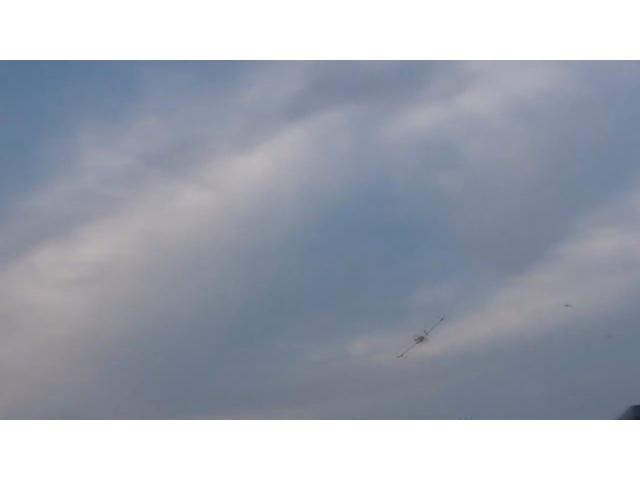Anti-Drone: (397, 317, 445, 357)
